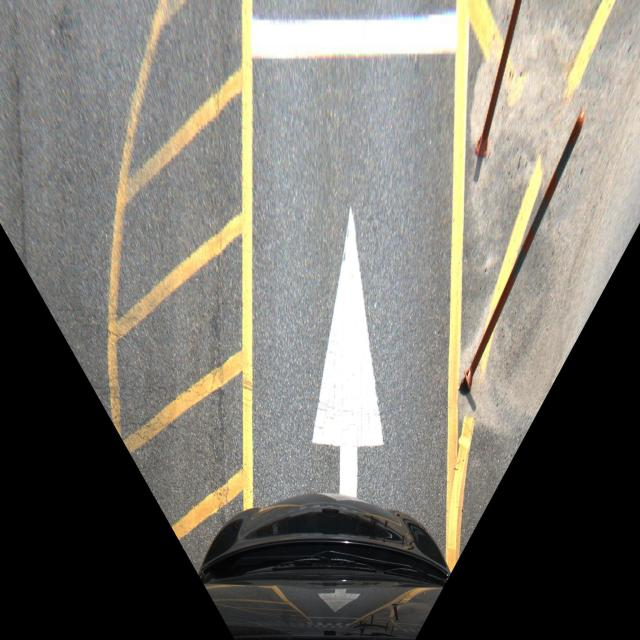forward: (243, 200, 457, 490)
